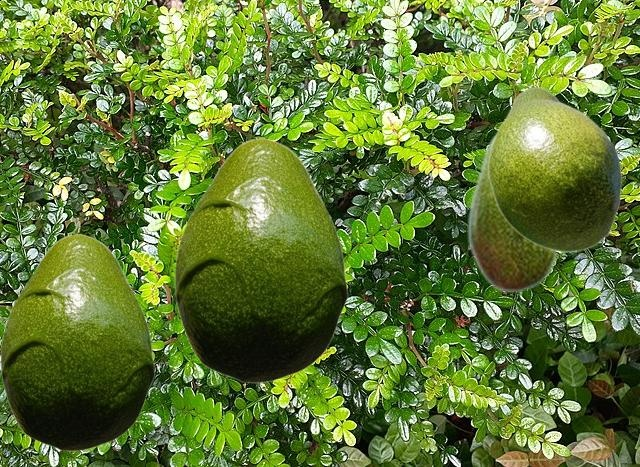avocado: (174, 137, 347, 382), (0, 233, 154, 450), (487, 86, 621, 252), (467, 128, 557, 293)
